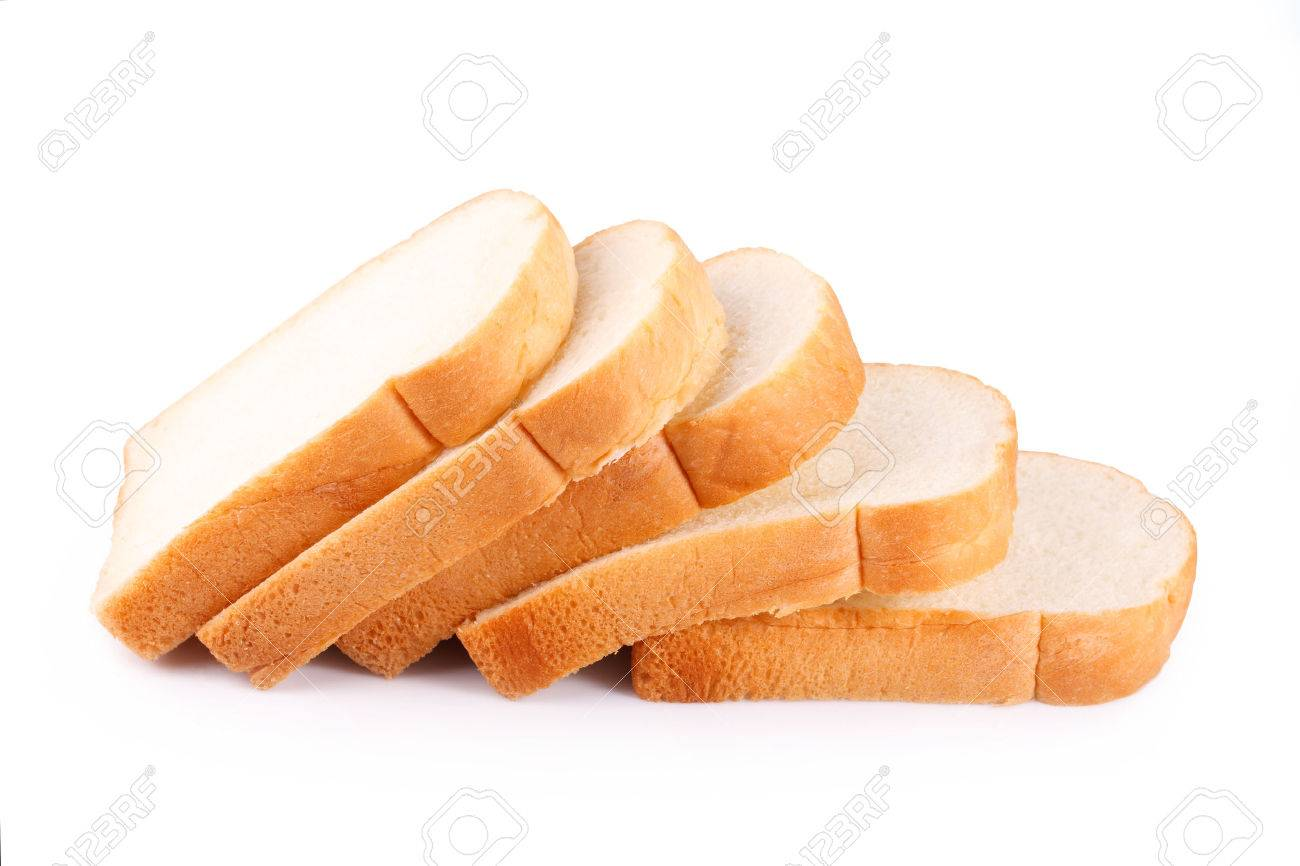slice of bread: (543, 219, 1198, 740), (107, 247, 563, 652)
